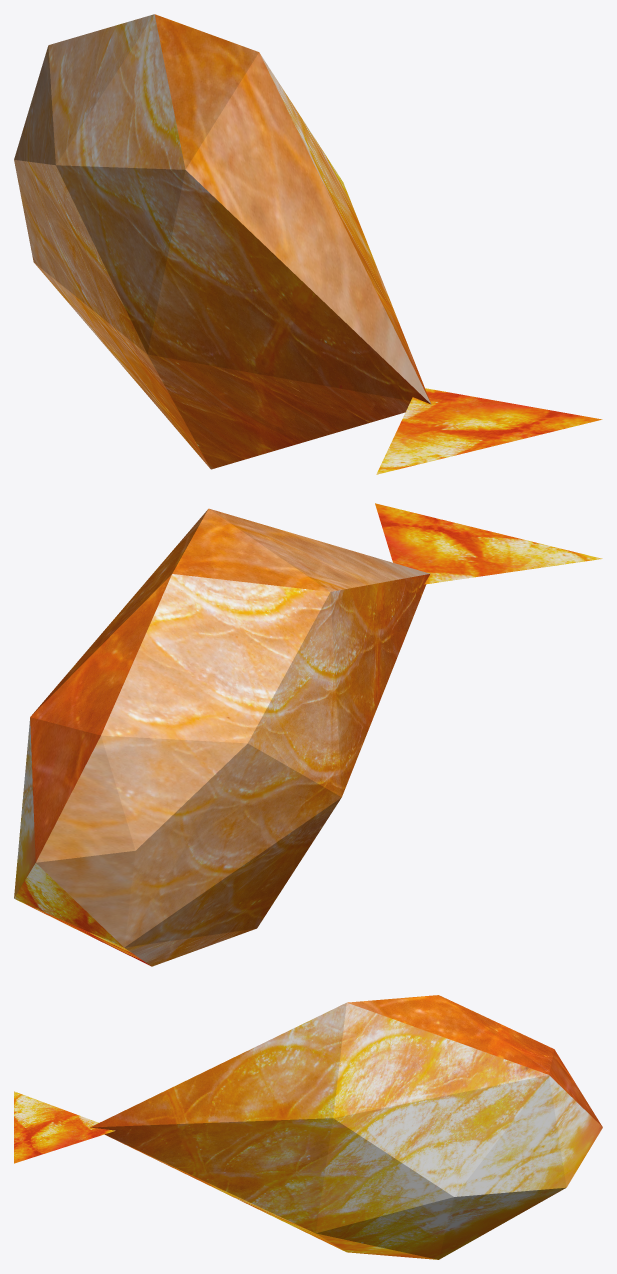
Rendered from PEXDORADO.fbx.
The picture shows the model from 3 angles, top to bottom: view 1: azimuth 30°, elevation 25°; view 2: azimuth 150°, elevation 25°; view 3: azimuth 270°, elevation 25°; orthographic projection. The views are drawn at different scales.
Visible parts, largest first — view 1: Pez_Dorado; view 2: Pez_Dorado; view 3: Pez_Dorado.
Boxes of the visible parts, <box> form: Pez_Dorado: <box>14,14,602,474</box>; Pez_Dorado: <box>14,503,602,966</box>; Pez_Dorado: <box>14,995,602,1259</box>.
Bounding box in the file's own units: 118 × 201 × 404.
Materials: 1 (1 with a texture image).
